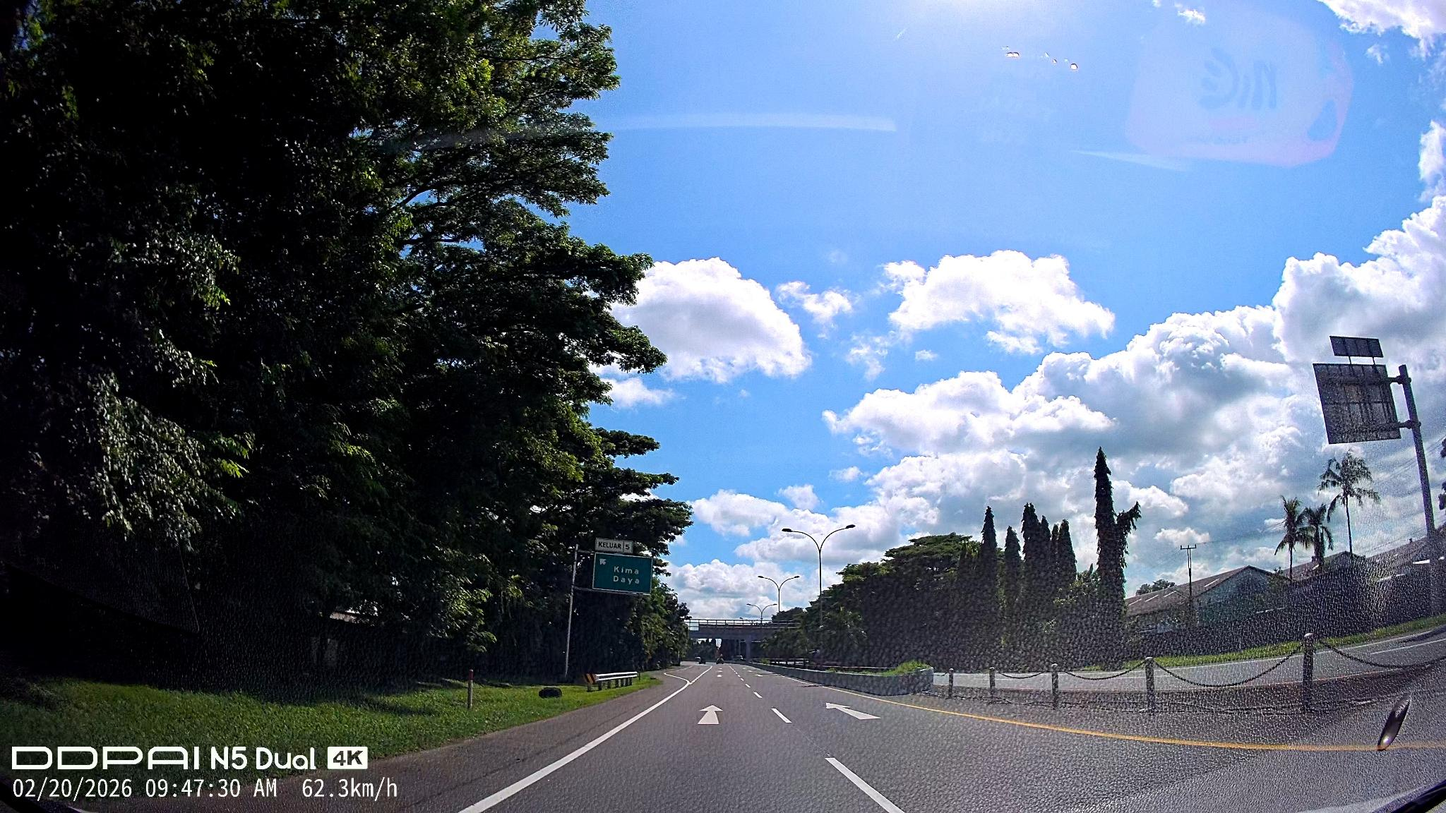rambu_teks: (592, 552, 653, 595)
